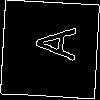A: (24, 24, 77, 61)
